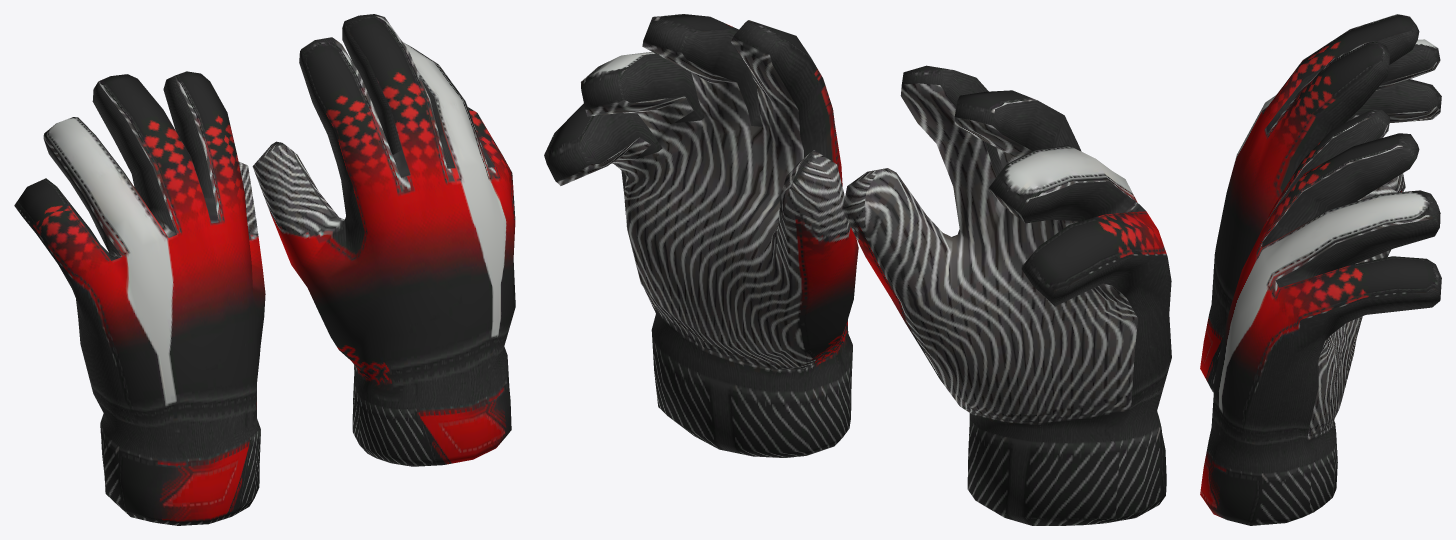
File: generic_Gloves.FBX
The picture shows the model from 3 angles, left to right: view 1: azimuth 30°, elevation 25°; view 2: azimuth 150°, elevation 25°; view 3: azimuth 270°, elevation 25°; orthographic projection. The views are drawn at different scales.
Parts seen in each view (by area): view 1: generic_Gloves_01; view 2: generic_Gloves_01; view 3: generic_Gloves_01.
Part boxes in pixels (x1=…): generic_Gloves_01: x1=14, y1=14, x2=515, y2=525; generic_Gloves_01: x1=544, y1=14, x2=1171, y2=525; generic_Gloves_01: x1=1200, y1=14, x2=1441, y2=525.
Size of the model in its own units: 87.7 by 70.07 by 42.11.
